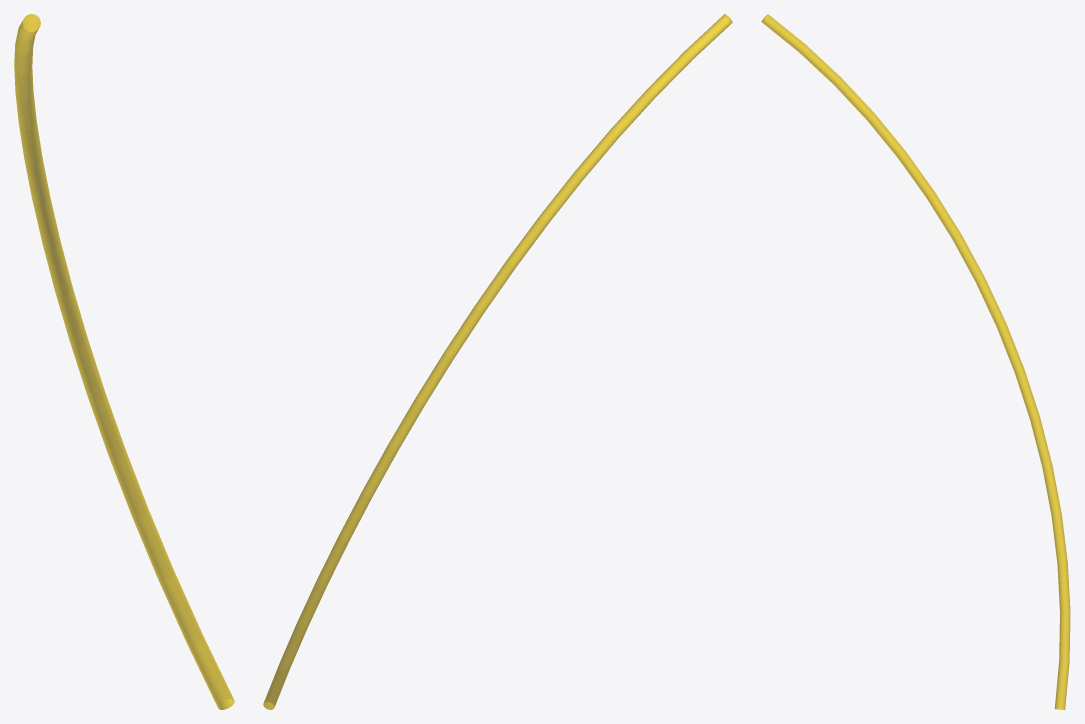
File: Event_17758602_track_36.fbx
3 views of the same model, side by side, from view 1: azimuth 30°, elevation 25°; view 2: azimuth 150°, elevation 25°; view 3: azimuth 270°, elevation 25° (orthographic). The views are drawn at different scales.
Visible parts, largest first — view 1: Model; view 2: Model; view 3: Model.
Part boxes in pixels (x1,y1,x2,y2): Model: [14, 14, 234, 709]; Model: [263, 14, 732, 709]; Model: [761, 14, 1070, 709].
Bounding box in the file's own units: 1.18 × 2.4 × 1.18.
